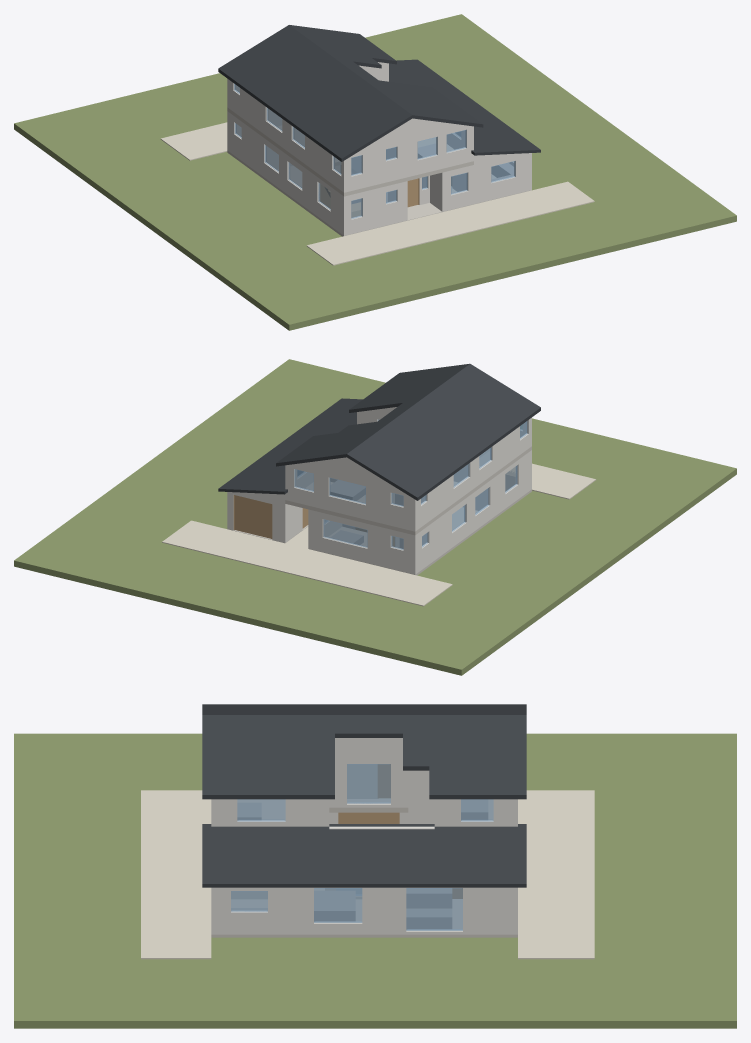
The model's file is casa_v3.obj.
3 views of the same model, one above another, from view 1: azimuth 30°, elevation 25°; view 2: azimuth 150°, elevation 25°; view 3: azimuth 270°, elevation 25° (orthographic). The views are drawn at different scales.
Visible parts, largest first — view 1: terreno, cubierta, muro, pavimento, vidrio, losa, madera; view 2: terreno, cubierta, muro, pavimento, vidrio, losa, madera, mueble; view 3: terreno, cubierta, pavimento, muro, vidrio, mueble, losa, madera.
Part boxes in pixels (x1,y1,x2,y2): terreno: [14, 14, 736, 330]; cubierta: [218, 25, 540, 161]; muro: [227, 62, 531, 235]; pavimento: [160, 122, 594, 265]; vidrio: [234, 83, 515, 218]; losa: [227, 107, 531, 236]; madera: [320, 177, 451, 217]; terreno: [14, 359, 736, 675]; cubierta: [218, 363, 540, 500]; muro: [227, 407, 531, 574]; pavimento: [162, 463, 596, 606]; vidrio: [294, 419, 528, 549]; losa: [227, 446, 531, 575]; madera: [233, 467, 515, 546]; mueble: [330, 480, 365, 544]; terreno: [14, 733, 736, 1028]; cubierta: [202, 704, 526, 887]; pavimento: [141, 790, 594, 959]; muro: [211, 738, 517, 934]; vidrio: [231, 764, 493, 930]; mueble: [231, 799, 487, 929]; losa: [211, 798, 517, 937]; madera: [338, 764, 462, 898].
Size of the model in its own units: 31 by 7.65 by 33.
